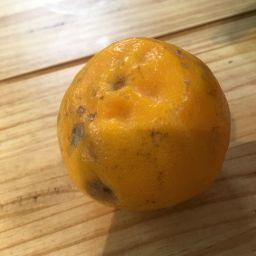Ripe: (57, 39, 231, 209)
